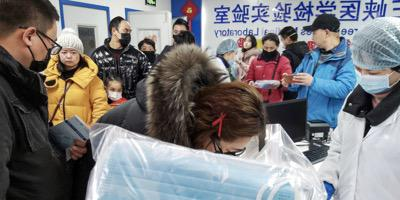with_mask: (353, 62, 392, 95), (26, 33, 58, 73), (115, 26, 132, 45), (106, 85, 123, 102), (140, 45, 155, 60), (262, 45, 277, 59), (172, 29, 186, 43), (226, 50, 238, 65), (279, 37, 287, 50)
without_mask: (58, 49, 80, 67), (311, 30, 325, 48), (242, 39, 251, 50)
